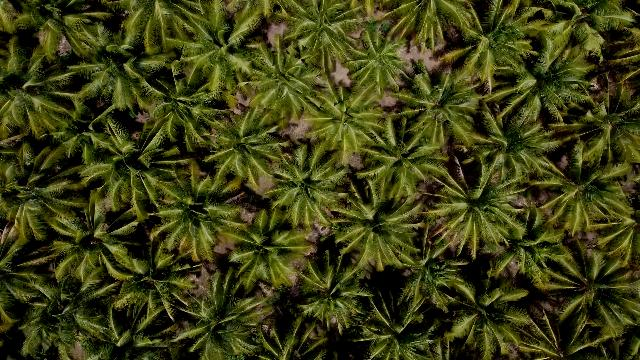trees: (9, 224, 136, 359), (56, 12, 196, 130), (84, 117, 195, 228), (535, 240, 639, 358), (423, 160, 533, 263), (495, 24, 601, 128), (329, 180, 427, 280), (106, 234, 201, 334), (435, 4, 540, 93), (145, 174, 239, 269), (195, 104, 291, 197), (535, 153, 636, 240), (353, 108, 446, 202), (438, 275, 539, 360), (171, 274, 270, 360), (393, 70, 486, 160), (240, 40, 330, 133), (215, 209, 311, 296), (259, 145, 349, 235), (141, 71, 232, 156), (290, 252, 373, 342), (3, 164, 91, 247), (548, 4, 640, 81), (354, 284, 447, 360), (562, 81, 640, 171), (306, 84, 389, 168), (8, 3, 118, 65), (501, 207, 580, 285), (344, 30, 412, 101), (292, 4, 367, 66), (133, 2, 210, 58), (581, 2, 640, 38)
